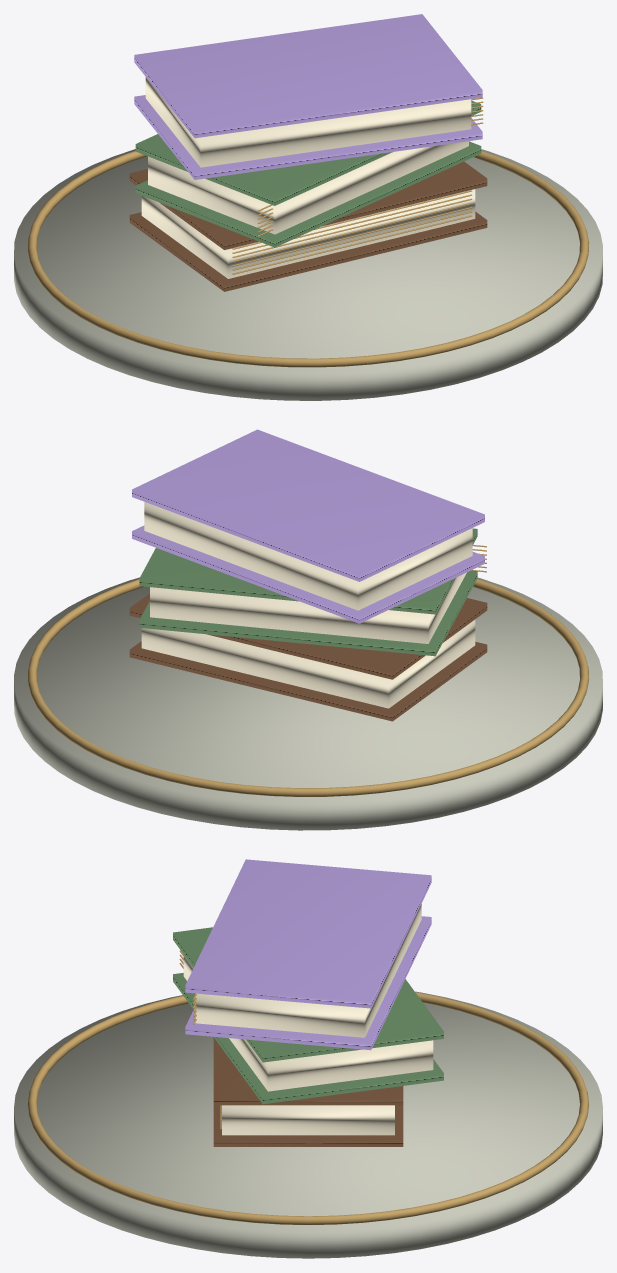
The model's file is english.glb.
3 renders of one model, top to bottom at view 1: azimuth 30°, elevation 25°; view 2: azimuth 150°, elevation 25°; view 3: azimuth 270°, elevation 25°, orthographic.
Parts seen in each view (by area): view 1: Limestone plinth, Book cover.005, Pages.002, Brass inlay, Pages.001, Pages, Book cover, Book cover.004, Book cover.002, Book cover.003, Book cover.001; view 2: Limestone plinth, Book cover.005, Pages.002, Pages, Brass inlay, Pages.001, Book cover, Book cover.004, Book cover.002, Book cover.003, Book cover.001; view 3: Limestone plinth, Book cover.005, Brass inlay, Pages.002, Pages.001, Pages, Book cover.003, Book cover.004, Book cover.002, Book cover.001, Book cover.
Boxes of the visible parts, x1,y1,x2,y2 form: Limestone plinth: (14,149,602,400); Book cover.005: (134,14,482,138); Pages.002: (145,77,471,167); Brass inlay: (28,151,589,367); Pages.001: (148,141,468,234); Pages: (141,189,475,278); Book cover: (129,211,487,291); Book cover.004: (134,95,482,179); Book cover.002: (135,141,481,247); Book cover.003: (135,100,481,205); Book cover.001: (129,161,487,249); Limestone plinth: (14,577,602,830); Book cover.005: (132,429,484,581); Pages.002: (144,502,472,610); Pages: (141,619,475,708); Brass inlay: (27,579,589,796); Pages.001: (150,572,466,643); Book cover: (129,641,487,721); Book cover.004: (132,525,484,623); Book cover.002: (139,571,477,656); Book cover.003: (139,528,477,614); Book cover.001: (129,593,487,679); Limestone plinth: (14,991,602,1258); Book cover.005: (185,859,431,1008); Brass inlay: (28,992,588,1224); Pages.002: (195,904,421,1037); Pages.001: (183,955,433,1091); Pages: (222,1105,394,1135); Book cover.003: (173,927,443,1062); Book cover.004: (185,916,431,1050); Book cover.002: (173,973,443,1104); Book cover.001: (213,1037,403,1105); Book cover: (213,1105,403,1146).
Bounding box in the file's own units: 3.2 × 1.22 × 3.2.
